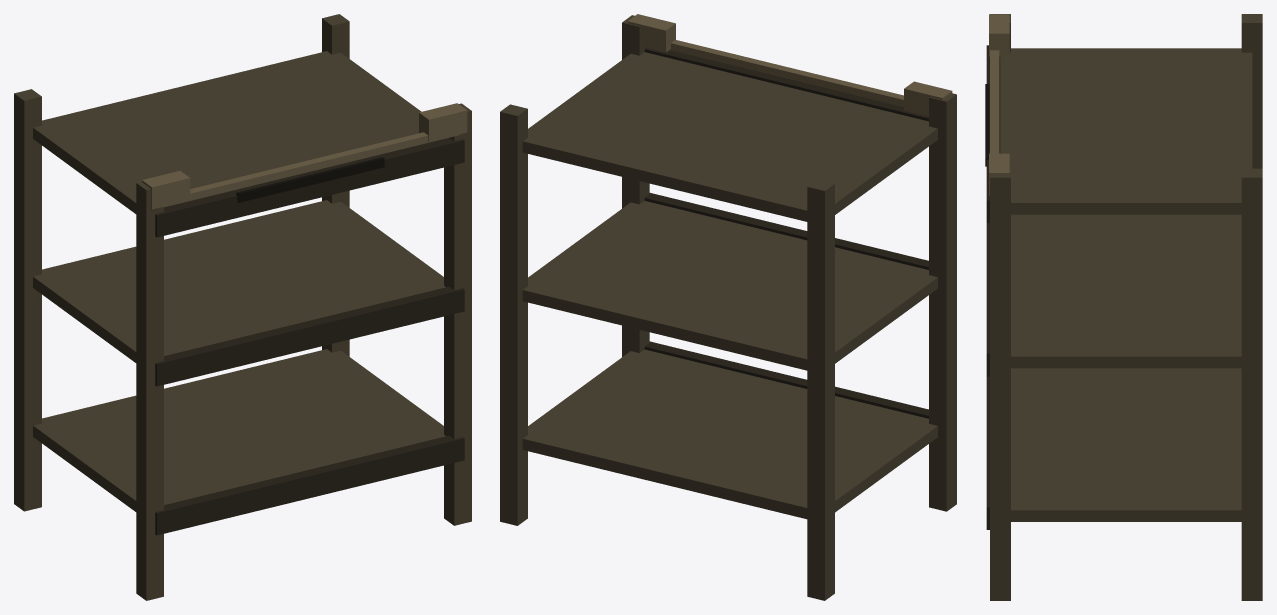
The model's file is CMU3DBrownStorageRack.glb.
The picture shows the model from 3 angles, left to right: view 1: azimuth 30°, elevation 25°; view 2: azimuth 150°, elevation 25°; view 3: azimuth 270°, elevation 25°; orthographic projection. The views are drawn at different scales.
Visible parts, largest first — view 1: open shelf (×2), rack upright (×4), upper shelf support, shelf front beam (×3), top shelf front trim, upper post cap (×2), top shelf recessed slot; view 2: open shelf (×2), upper shelf support, rack upright (×4), shelf front beam (×3), top shelf front trim, upper post cap (×2); view 3: open shelf (×2), upper shelf support, rack upright (×3), shelf front beam (×3), upper post cap (×2), top shelf front trim, top shelf recessed slot.
Boxes of the visible parts, x1,y1,x2,y2 form: open shelf (×2): (33,200,445,511); rack upright (×4): (14,14,471,600); upper shelf support: (33,51,421,213); shelf front beam (×3): (155,138,464,535); top shelf front trim: (161,132,458,207); upper post cap (×2): (142,103,467,209); top shelf recessed slot: (236,157,384,202); open shelf (×2): (522,201,937,519); upper shelf support: (522,52,937,221); rack upright (×4): (500,15,956,600); shelf front beam (×3): (644,48,928,418); top shelf front trim: (670,40,903,107); upper post cap (×2): (627,14,952,116); open shelf (×2): (1011,214,1241,521); upper shelf support: (1000,48,1252,214); rack upright (×3): (990,14,1262,600); shelf front beam (×3): (986,45,1000,529); upper post cap (×2): (989,14,1009,195); top shelf front trim: (990,50,999,153); top shelf recessed slot: (985,84,989,166).
Size of the model in its own units: 0.846 by 1.02 by 0.606.
